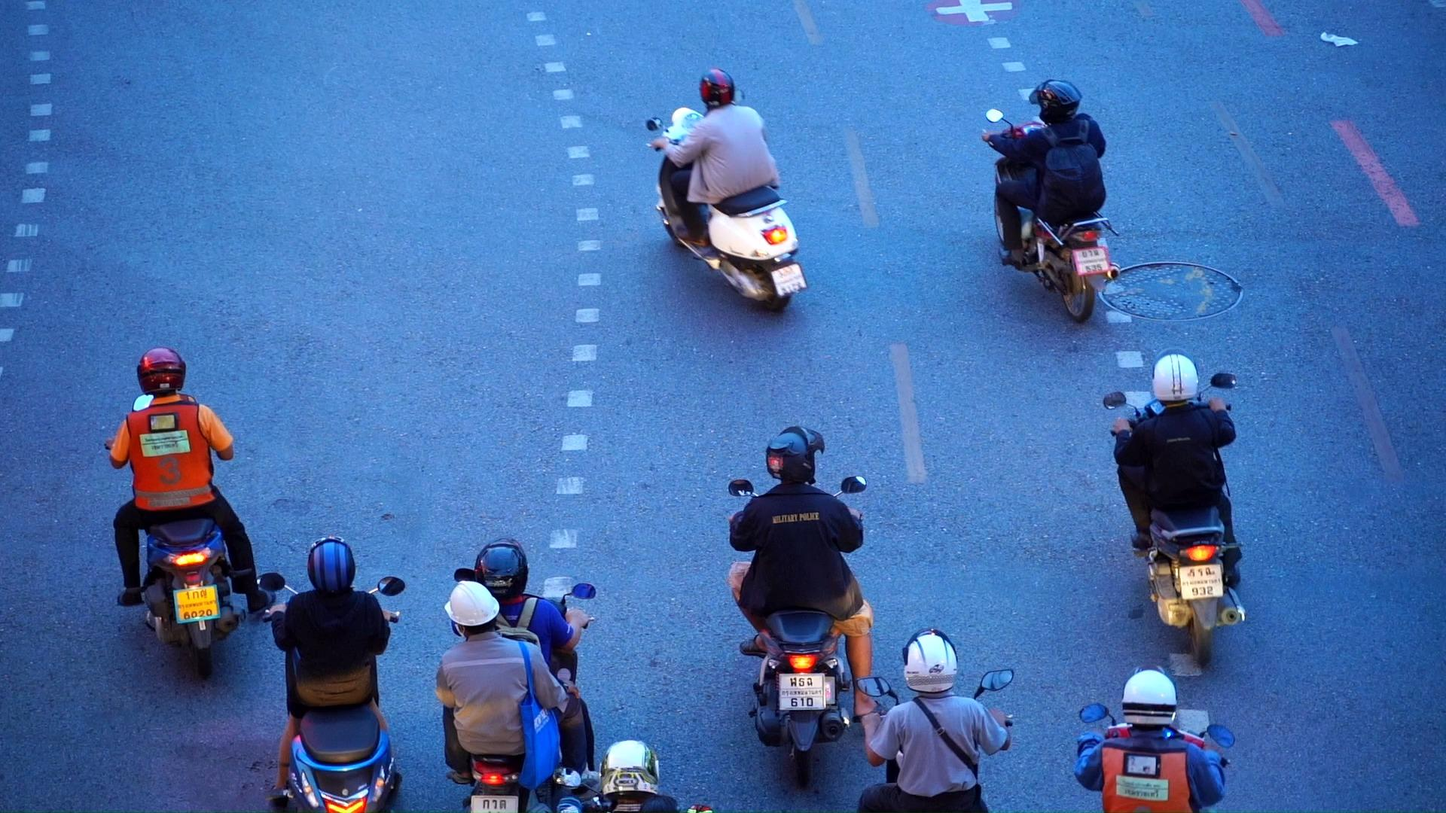driver: (727, 425, 894, 787), (103, 346, 278, 680), (1104, 346, 1249, 667), (437, 538, 600, 813), (257, 536, 406, 813), (646, 67, 809, 312), (981, 78, 1120, 323), (856, 628, 1014, 813), (1076, 663, 1235, 813), (553, 739, 717, 813)
helmet: (1120, 664, 1178, 731), (902, 627, 957, 694), (599, 740, 660, 800), (765, 425, 825, 485), (475, 539, 528, 601), (445, 580, 500, 639), (1151, 346, 1199, 407), (307, 536, 356, 594), (1029, 78, 1083, 128), (137, 346, 186, 396), (700, 68, 735, 112)
